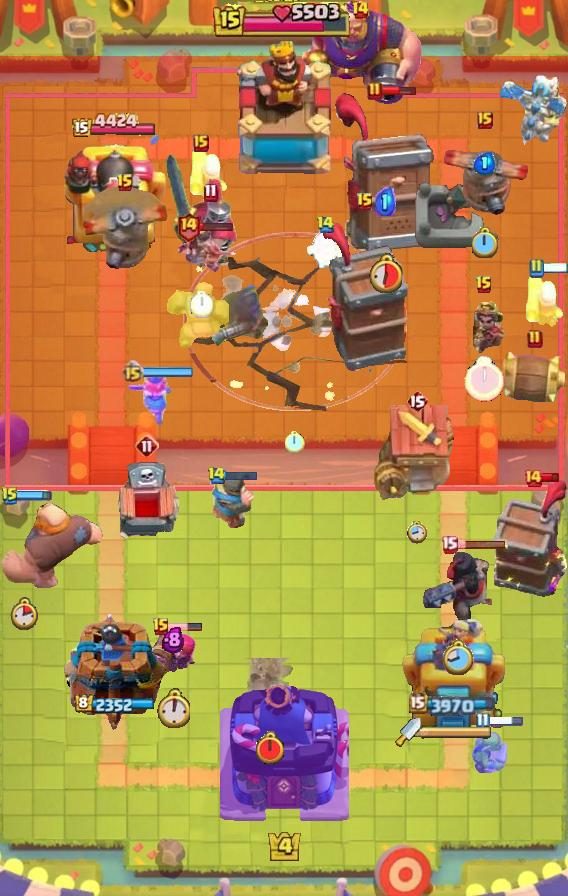balloon: (0, 500, 104, 592)
bar: (402, 615, 507, 731)
bat: (304, 230, 346, 272)
bomb-tower: (208, 284, 270, 348)
bomber-evolution: (463, 300, 506, 356)
clock: (213, 2, 355, 40)
dark-prince: (80, 186, 170, 272), (441, 131, 529, 215)
dart-goblin: (335, 92, 435, 254), (320, 217, 410, 373), (490, 479, 568, 599)
electro-spirit: (375, 187, 396, 216), (162, 627, 184, 654), (474, 153, 496, 176)
elixir: (464, 356, 504, 402), (368, 253, 402, 293), (156, 688, 190, 728), (443, 639, 475, 677), (254, 730, 286, 765), (10, 598, 38, 630), (473, 226, 500, 257), (191, 291, 214, 318), (407, 520, 427, 544), (285, 431, 305, 454)
elixir-golem-mid: (112, 461, 182, 547)
emote: (455, 539, 507, 550), (143, 367, 194, 377), (487, 716, 525, 729), (222, 469, 257, 481), (381, 84, 417, 95), (199, 220, 234, 231), (16, 490, 51, 501), (167, 622, 203, 632), (542, 261, 568, 274), (540, 472, 560, 483)
firecracker: (210, 475, 254, 530)
fisherman: (243, 657, 297, 722)
guard: (183, 232, 407, 412)
hog-rider: (125, 373, 173, 427)
inferno-dragon: (420, 540, 498, 630)
king-tower: (219, 678, 349, 826), (228, 41, 340, 181)
king-tower-bar: (421, 725, 493, 739)
lightning: (297, 0, 423, 106)
mega-minion: (145, 625, 201, 687)
mini-pekka: (496, 70, 568, 150)
queen-tower: (62, 613, 166, 731)
selected: (71, 112, 157, 140), (410, 692, 499, 715), (73, 693, 154, 714)
skeleton-dragon: (176, 223, 238, 275)
sparky: (374, 404, 460, 502)
text: (176, 210, 201, 241), (135, 434, 159, 458), (120, 361, 143, 384), (406, 389, 428, 413), (523, 468, 543, 488), (351, 0, 370, 20), (116, 173, 134, 193), (356, 192, 374, 212), (475, 275, 493, 295), (1, 486, 19, 506), (152, 617, 170, 637), (317, 215, 336, 233), (207, 467, 226, 485), (367, 81, 383, 101), (528, 258, 544, 278), (527, 329, 543, 349), (441, 535, 458, 553), (477, 111, 493, 129), (193, 134, 209, 152), (475, 713, 490, 732)
the-log: (494, 351, 568, 403)
tombstone: (188, 144, 230, 202), (524, 271, 566, 329)
tower-bar: (60, 138, 168, 256)
valkyrie-evolution: (167, 276, 229, 352)
wall-breaker-evolution: (164, 153, 238, 273)
zap: (471, 726, 511, 776)
